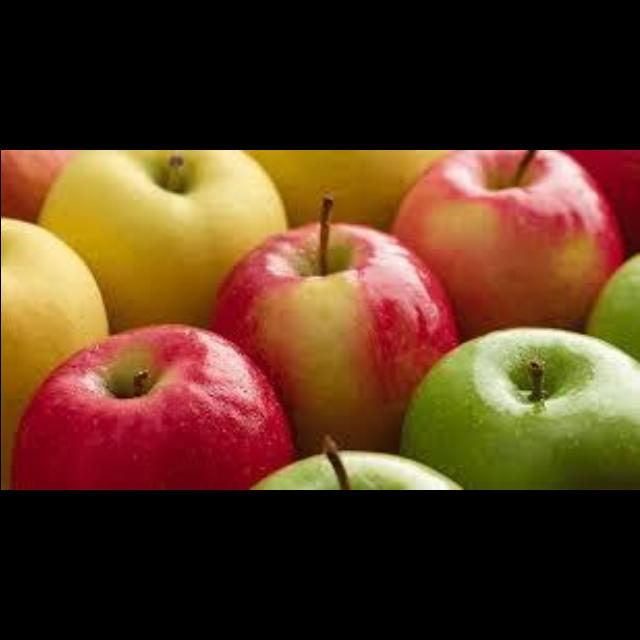apple: (210, 223, 457, 455), (10, 325, 293, 489), (37, 150, 285, 331), (393, 150, 621, 337), (399, 329, 638, 489), (0, 219, 106, 489), (249, 437, 459, 489), (586, 254, 638, 360)
